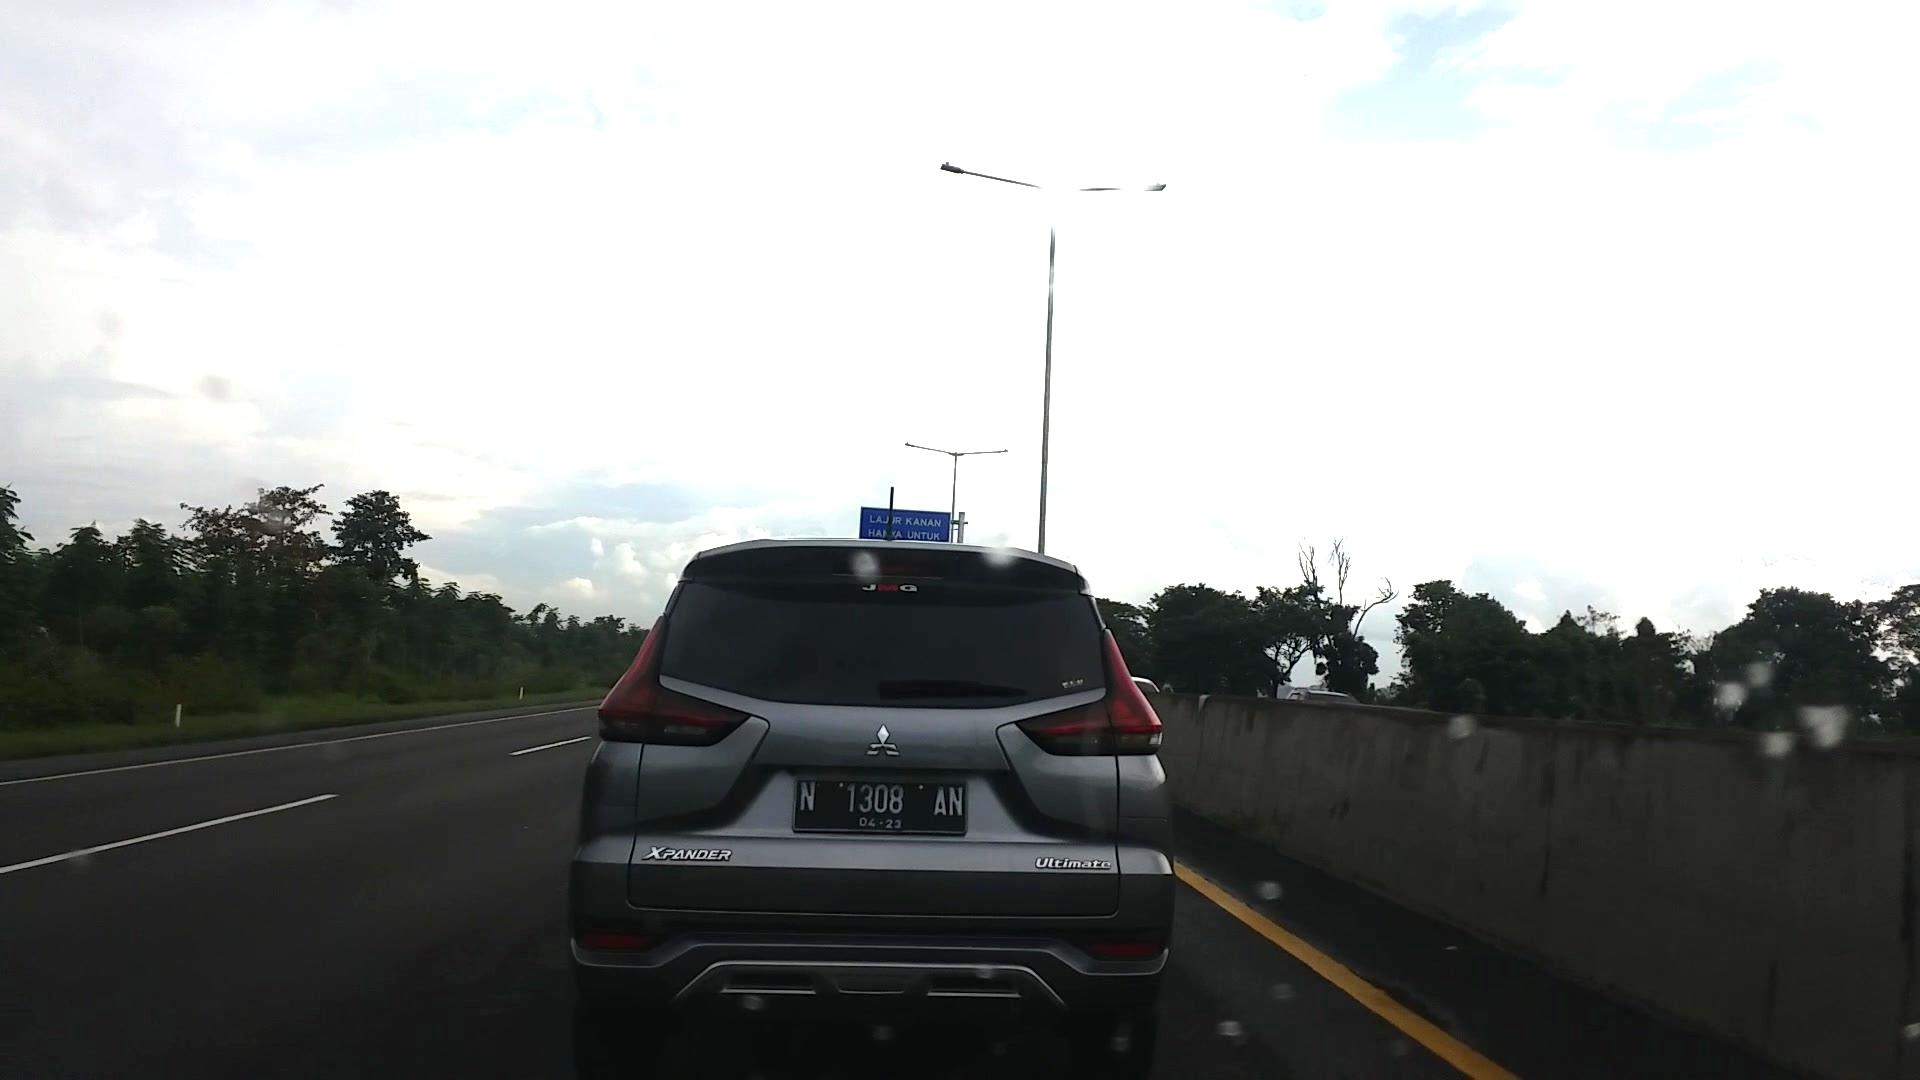plate_positive: (793, 779, 969, 835)
